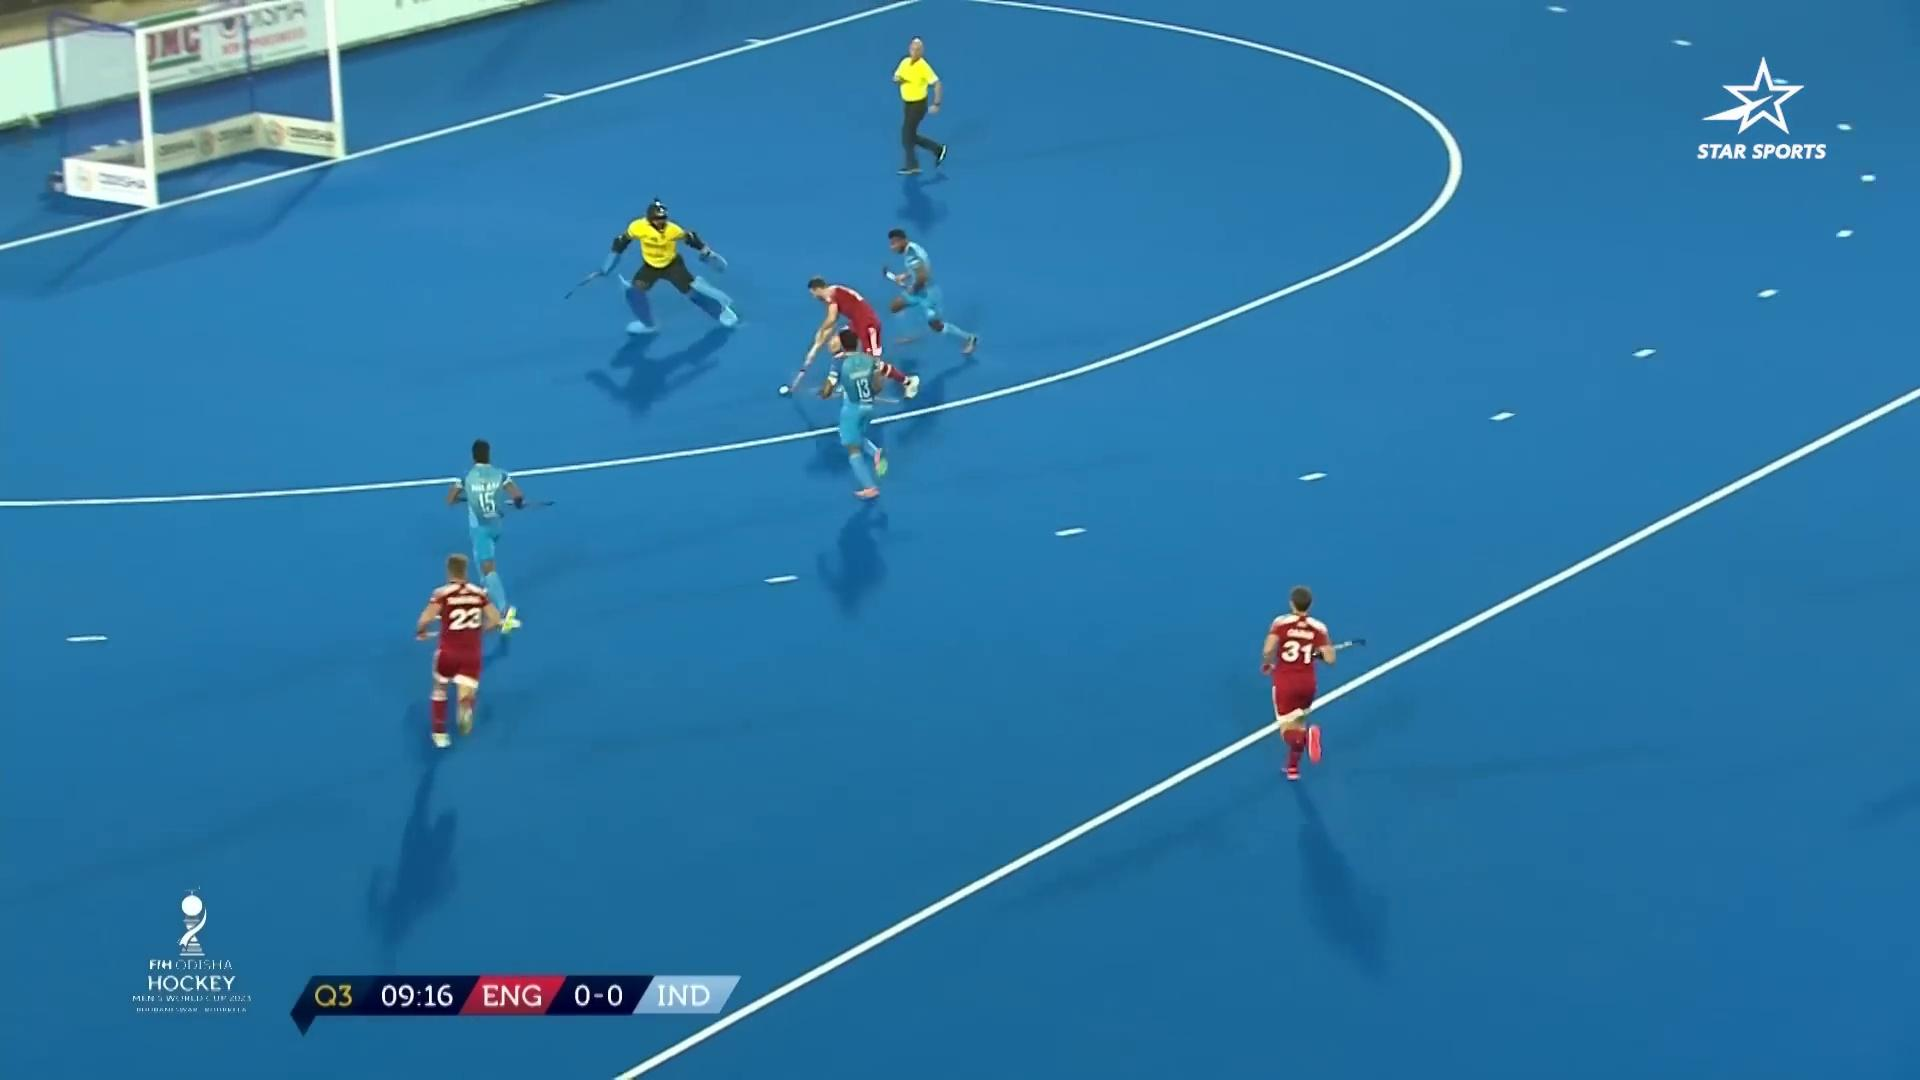ball: (768, 377, 805, 410)
